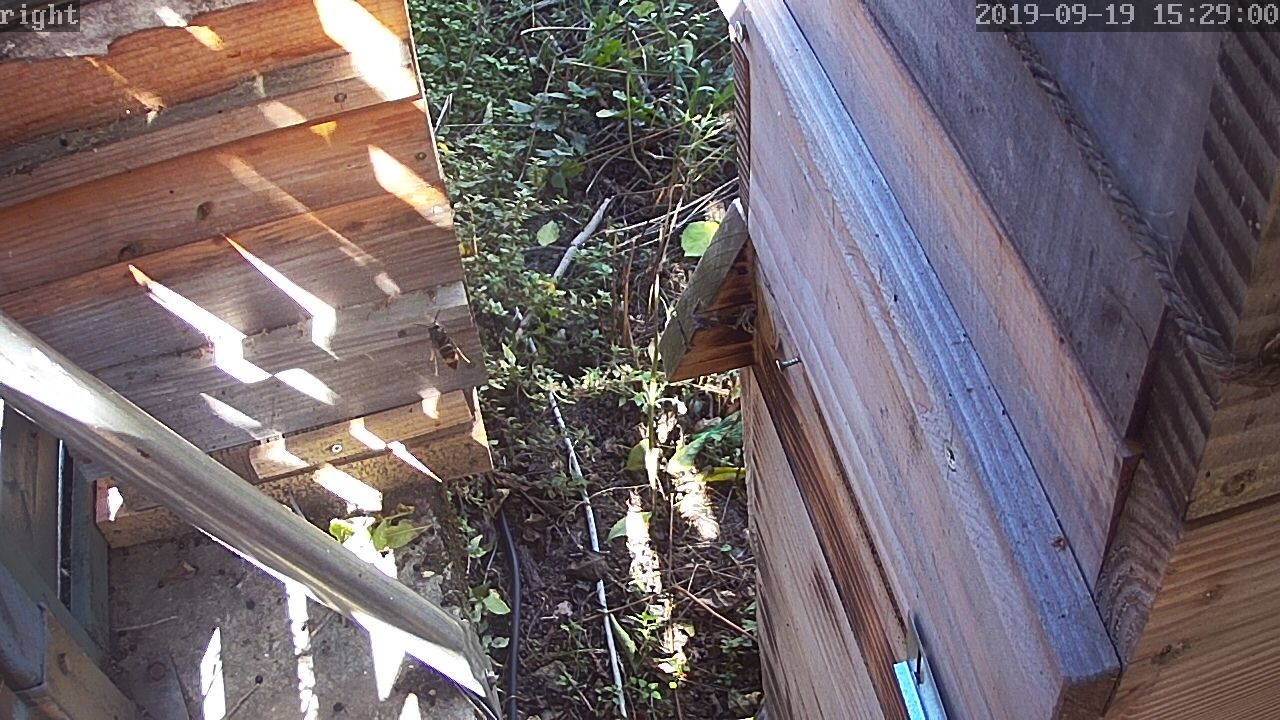hornet: (417, 316, 470, 376)
